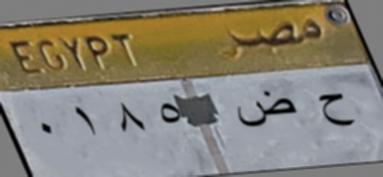0: (36, 113, 63, 144)
1: (70, 103, 103, 143)
5: (157, 98, 182, 130)
7aa: (314, 88, 356, 135)
8: (114, 100, 150, 140)
daad: (236, 86, 297, 138)
